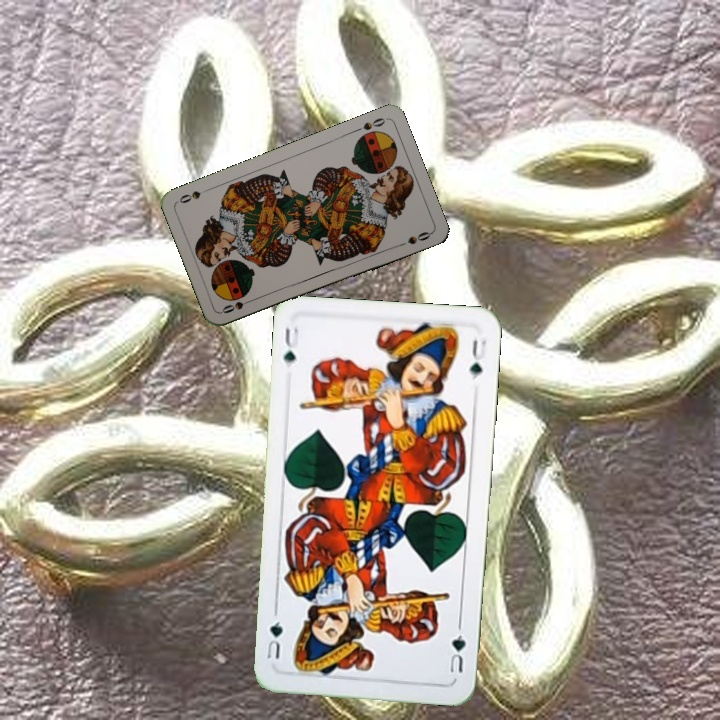GU: (445, 631, 468, 675), (279, 323, 302, 366)
SO: (218, 295, 257, 316), (350, 114, 388, 135)
